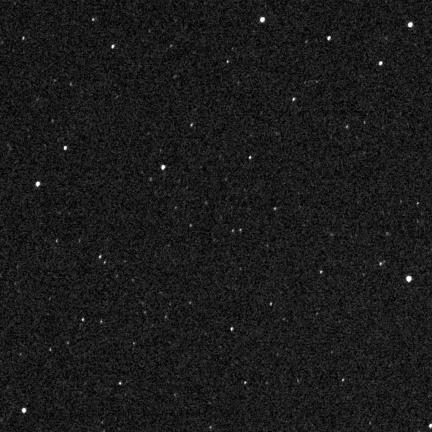blob: (406, 276, 412, 282), (260, 17, 265, 23), (22, 408, 27, 414), (408, 22, 413, 27), (111, 45, 116, 50), (161, 165, 165, 170), (99, 255, 103, 260), (327, 36, 331, 40), (36, 182, 40, 186), (64, 146, 67, 151), (379, 62, 383, 65), (249, 156, 252, 160), (292, 98, 296, 101), (231, 327, 233, 331), (119, 382, 121, 385)
